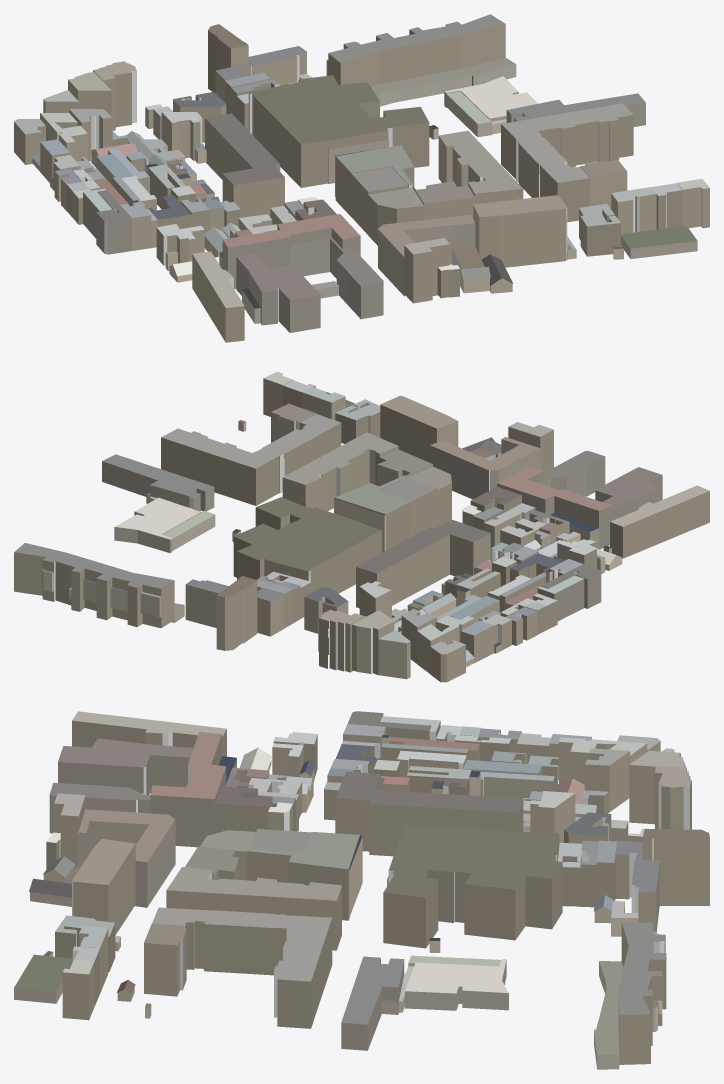
3 renders of one model, top to bottom at view 1: azimuth 30°, elevation 25°; view 2: azimuth 150°, elevation 25°; view 3: azimuth 270°, elevation 25°, orthographic. The views are drawn at different scales.
Visible parts, largest first — view 1: tuile; view 2: tuile; view 3: tuile.
Boxes of the visible parts, x1=… form: tuile: x1=14, y1=14, x2=709, y2=342; tuile: x1=14, y1=371, x2=709, y2=682; tuile: x1=14, y1=711, x2=709, y2=1069.
Size of the model in its own units: 286 by 39.65 by 276.
